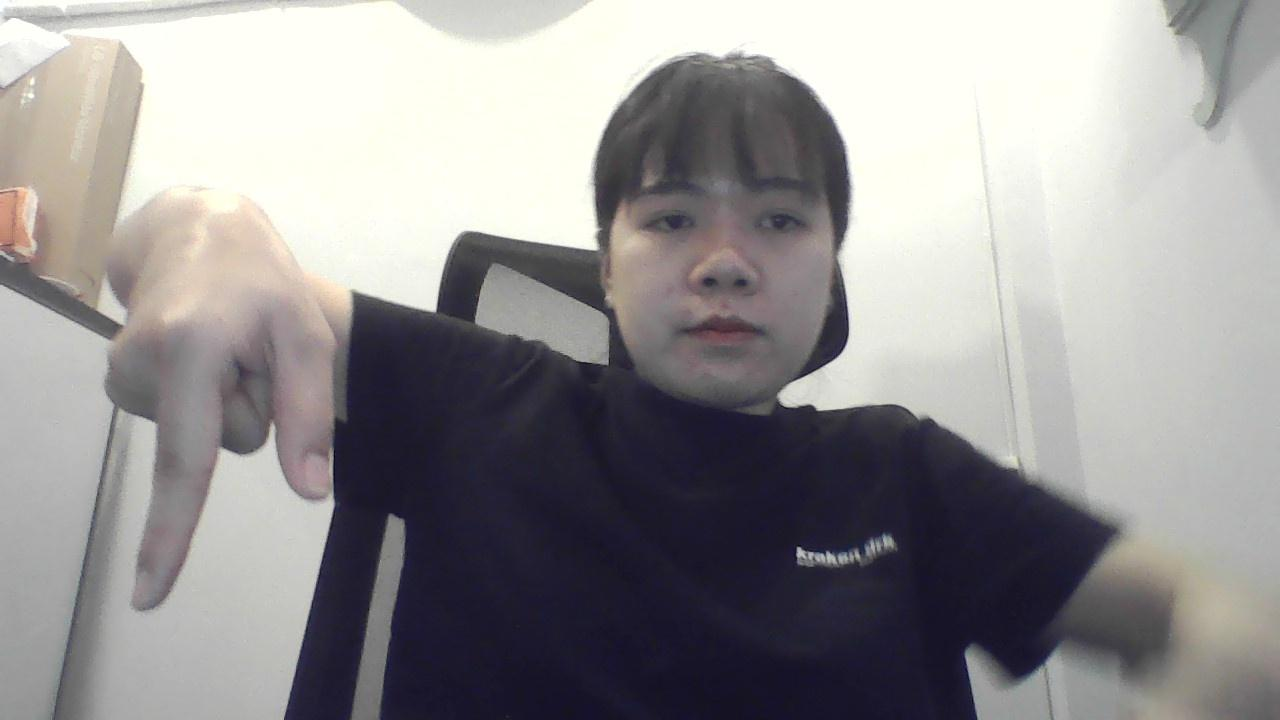Q: (94, 229, 349, 650)
